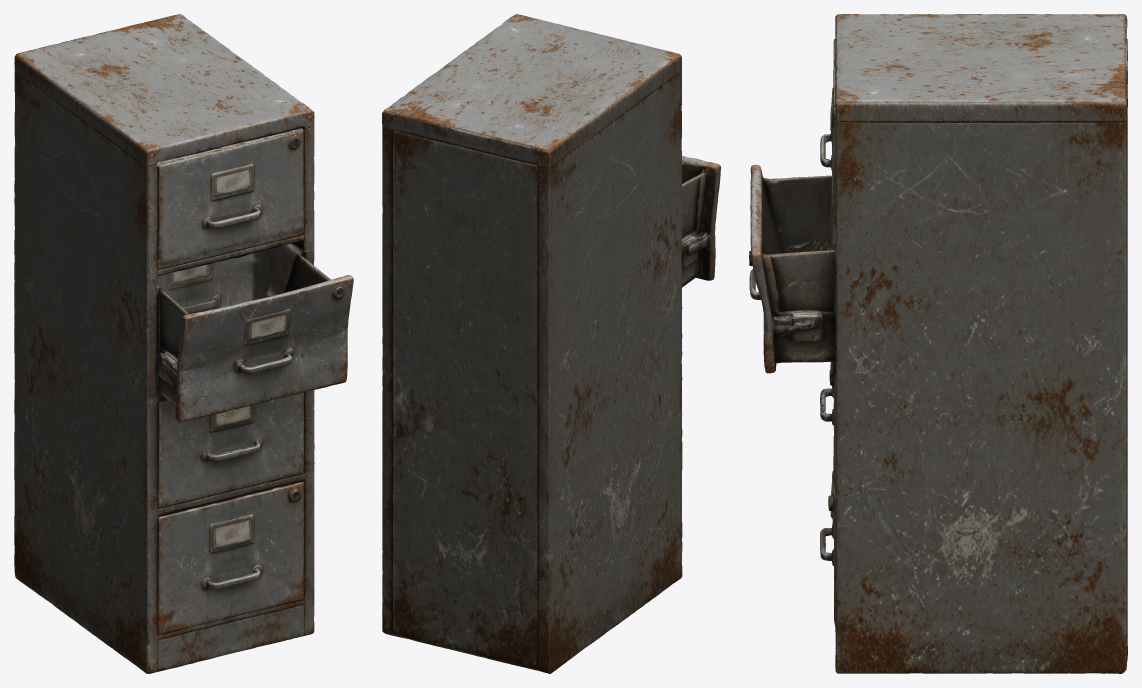
The model's file is FilingCabinet.fbx.
3 views of the same model, side by side, from view 1: azimuth 30°, elevation 25°; view 2: azimuth 150°, elevation 25°; view 3: azimuth 270°, elevation 25° (orthographic). The views are drawn at different scales.
Visible parts, largest first — view 1: texture_mapping; view 2: texture_mapping; view 3: texture_mapping.
Part boxes in pixels (left/top/right/bottom): texture_mapping: left=14, top=14, right=353, bottom=673; texture_mapping: left=382, top=14, right=720, bottom=673; texture_mapping: left=749, top=14, right=1127, bottom=673.
Size of the model in its own units: 0.3378 by 0.5996 by 1.
Materials: 1 (1 with a texture image).
